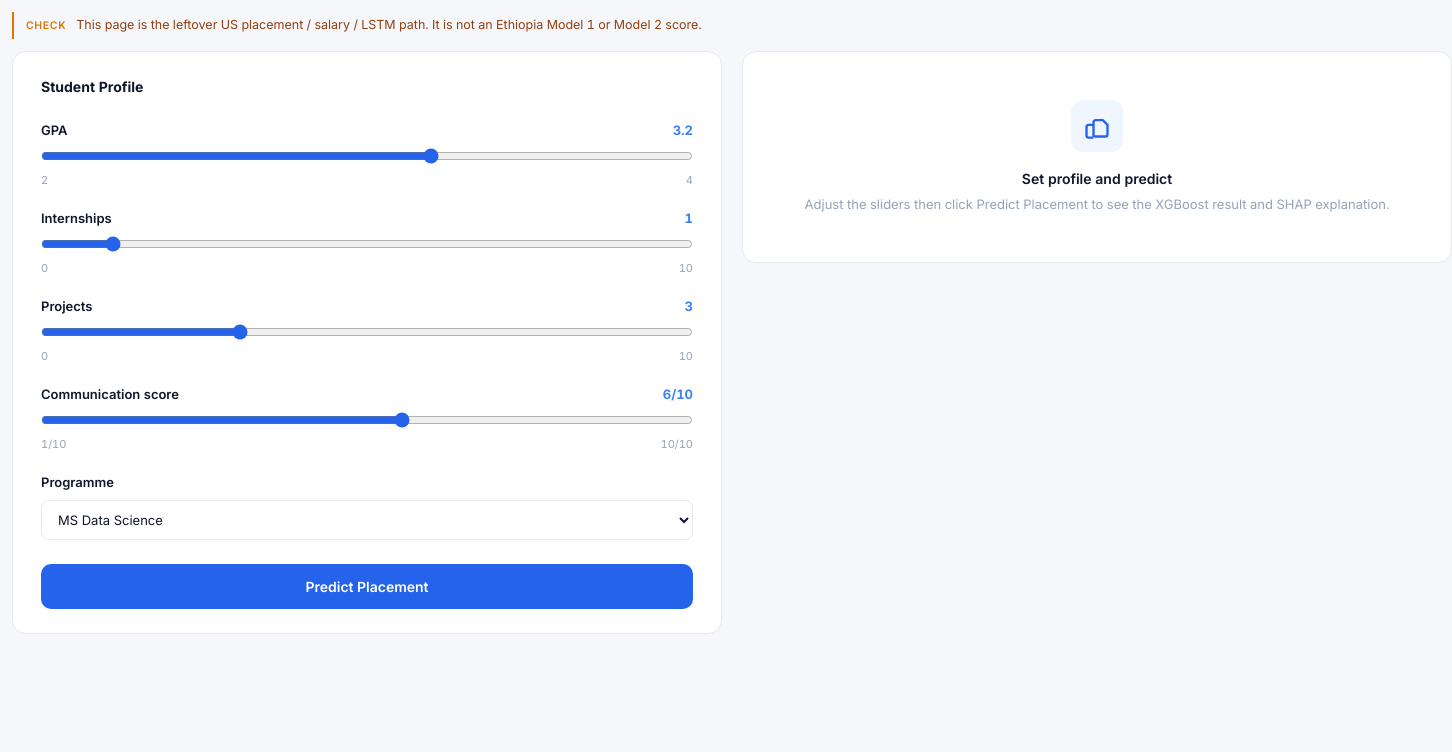
it: StudentEvaluatorPage — successful prediction › renders Alternative Pathways section
The width and height of the screenshot is (1452, 752).
Click the button "Predict Placement": [367, 586] box [41,564,693,609]
(page scrolled)
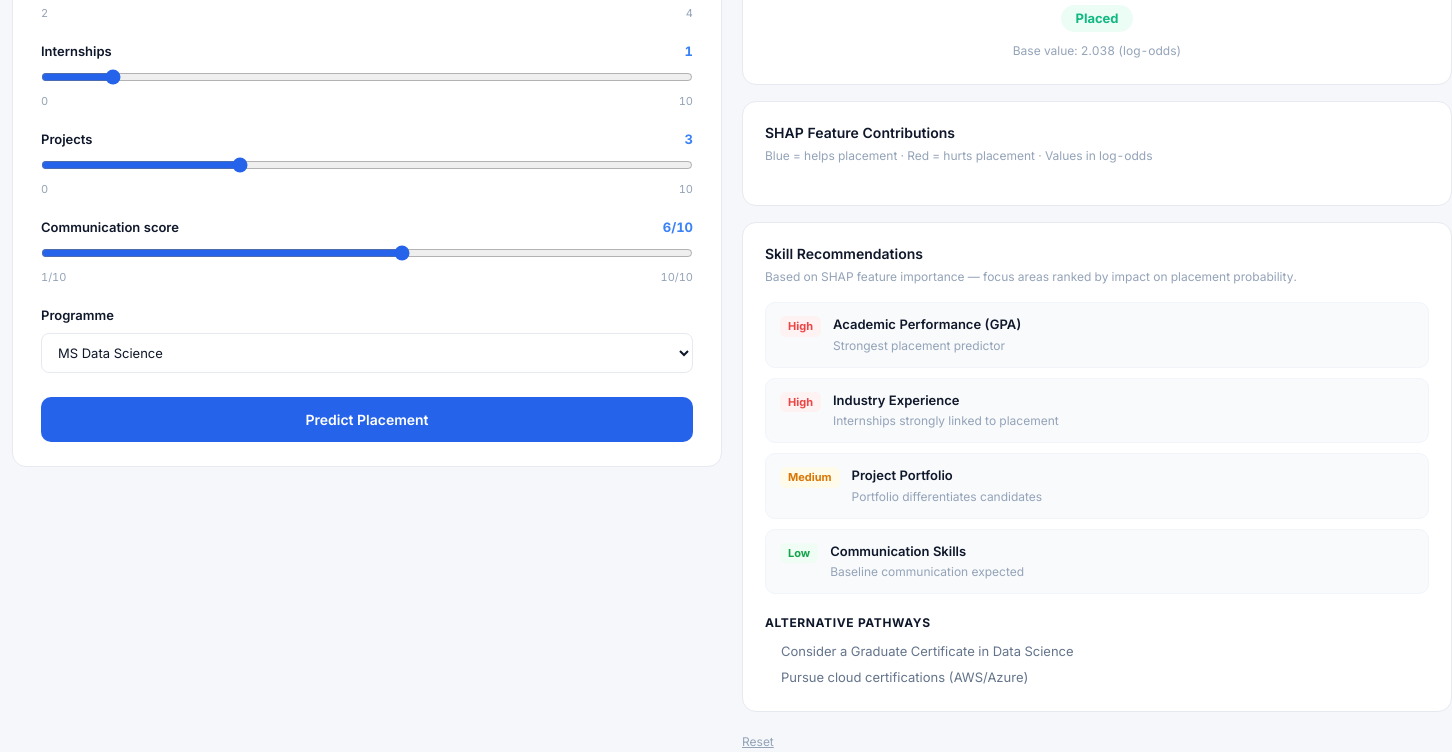
Now the text "Alternative Pathways" is shown, box [765,615,931,630]
